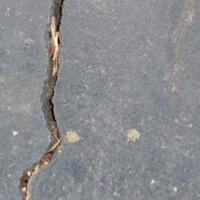crack: (15, 0, 84, 199)
